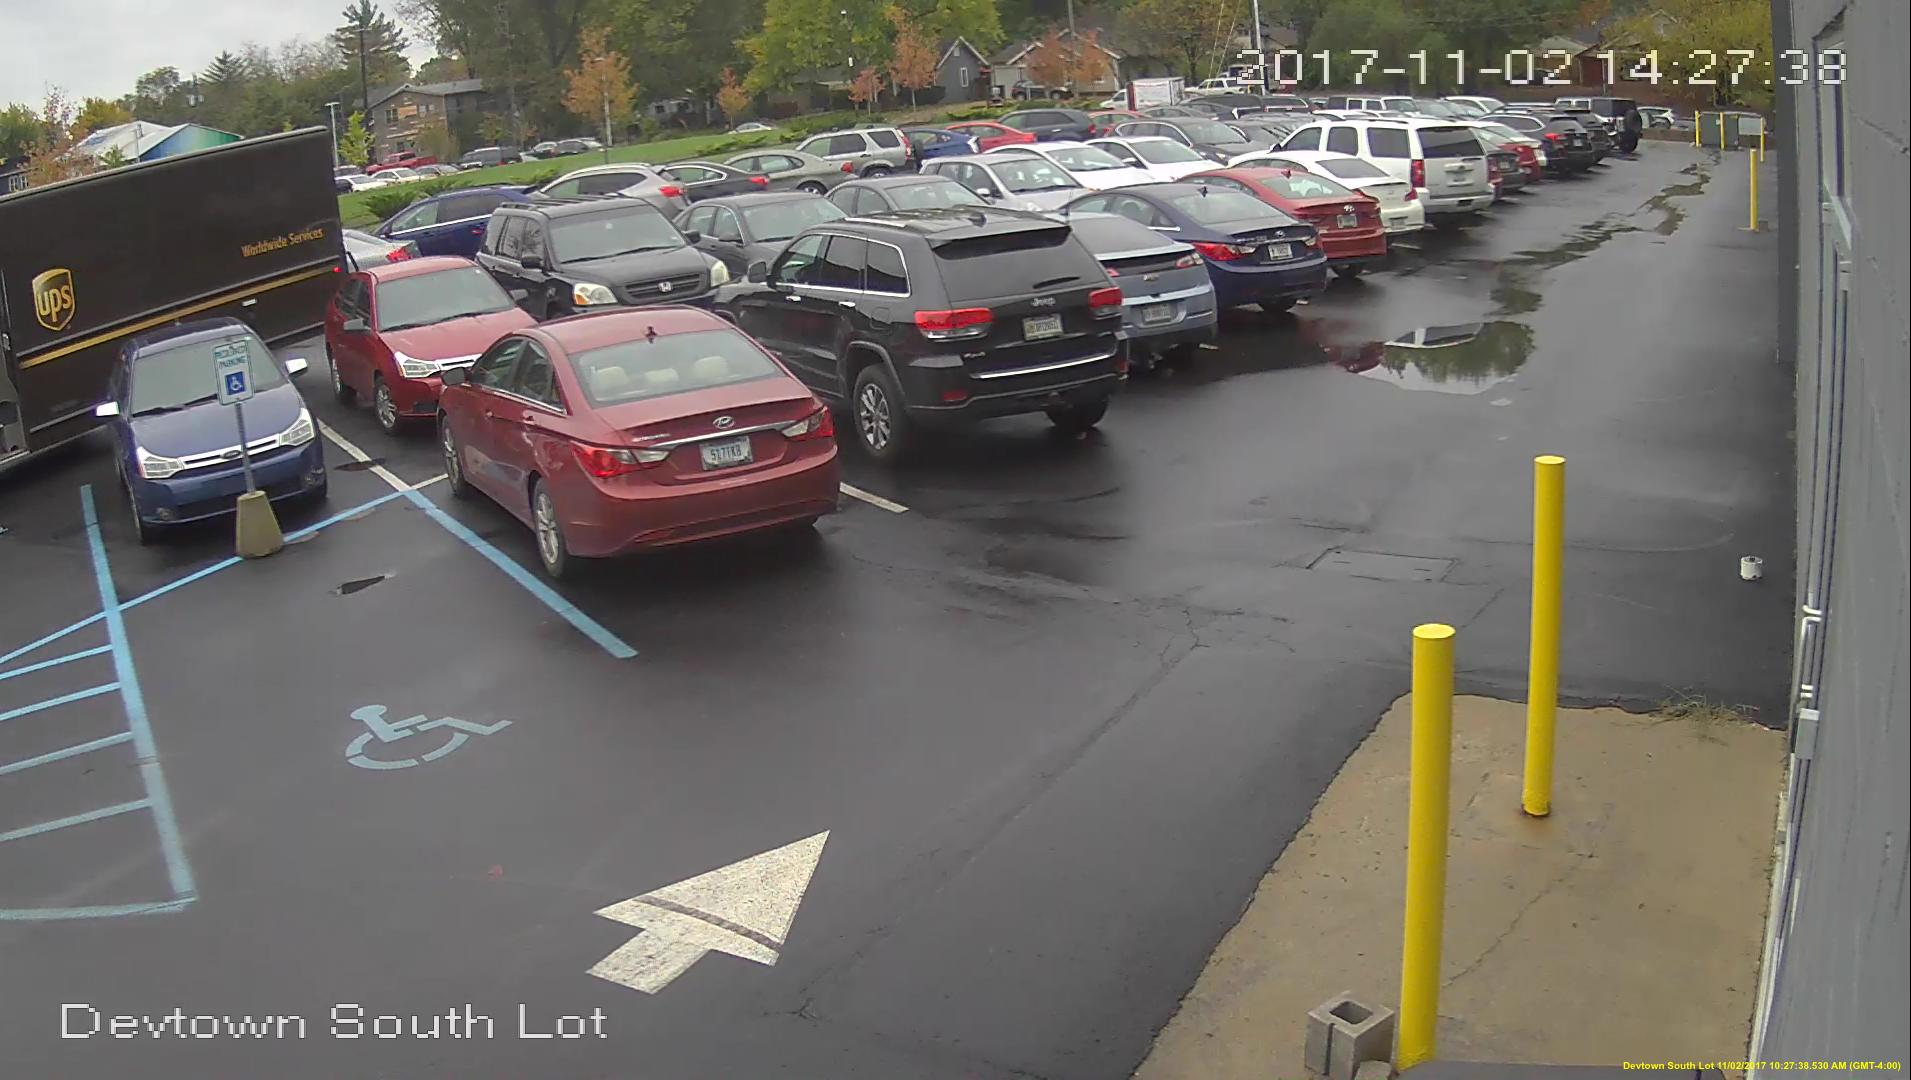ups_truck: (3, 184, 339, 420)
